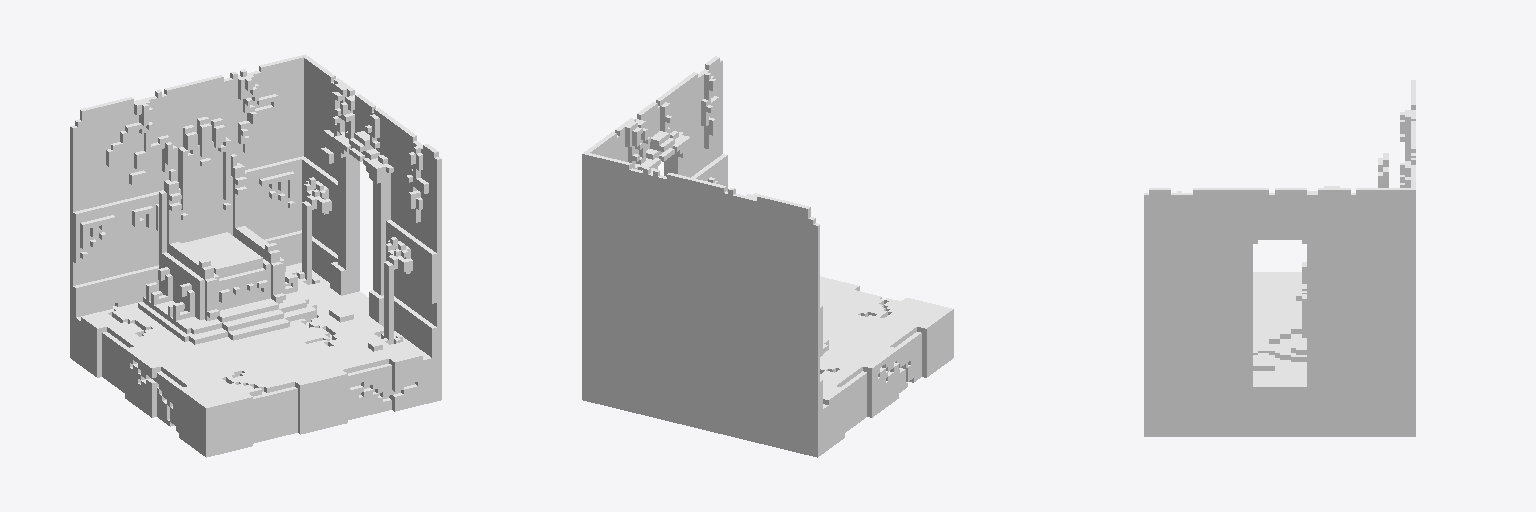
Rendered from Kings_Throne.obj.
3 views of the same model, side by side, from view 1: azimuth 30°, elevation 25°; view 2: azimuth 150°, elevation 25°; view 3: azimuth 270°, elevation 25° (orthographic).
Visible parts, largest first — view 1: KingsThrone; view 2: KingsThrone; view 3: KingsThrone.
Boxes of the visible parts, box(x1,y1,x2,y2) form: KingsThrone: box(70, 54, 441, 457); KingsThrone: box(582, 56, 953, 457); KingsThrone: box(1144, 80, 1415, 436).
Size of the model in its own units: 5 by 5 by 5.